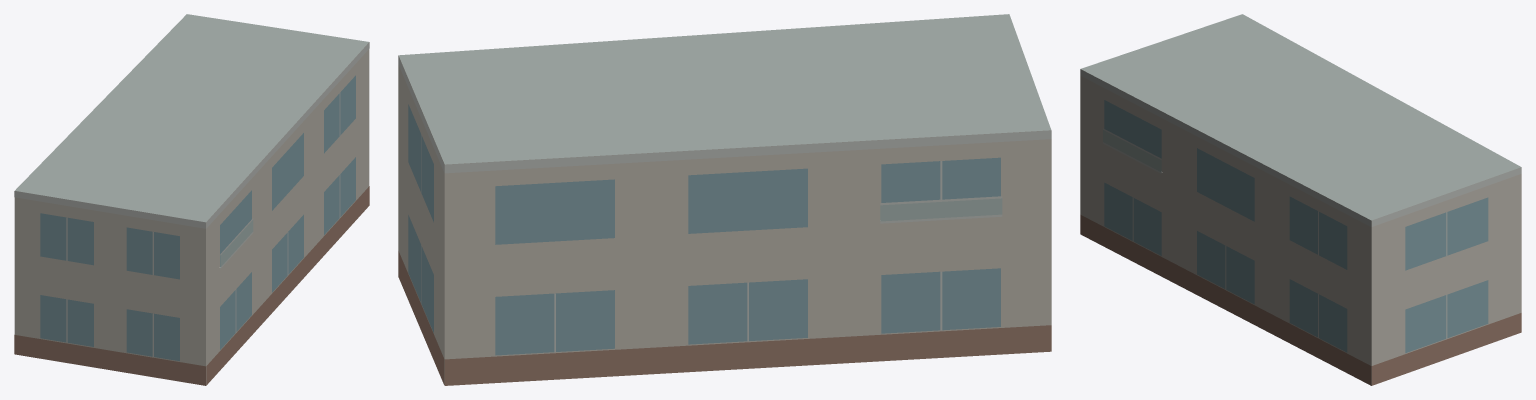
The model's file is survey-upis-32978400.glb.
The picture shows the model from 3 angles, left to right: view 1: azimuth 30°, elevation 25°; view 2: azimuth 150°, elevation 25°; view 3: azimuth 270°, elevation 25°; orthographic projection. The views are drawn at different scales.
Parts seen in each view (by area): view 1: survey-upis-32978400.tmp; view 2: survey-upis-32978400.tmp; view 3: survey-upis-32978400.tmp.
Boxes of the visible parts, left/top/right/bottom form: survey-upis-32978400.tmp: left=14, top=14, right=369, bottom=385; survey-upis-32978400.tmp: left=398, top=14, right=1051, bottom=385; survey-upis-32978400.tmp: left=1080, top=14, right=1521, bottom=385.
Bounding box in the file's own units: 16.36 × 6.1 × 14.77.
